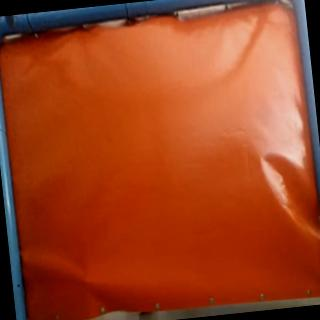Hit-hRxx: (82, 274, 98, 288)
